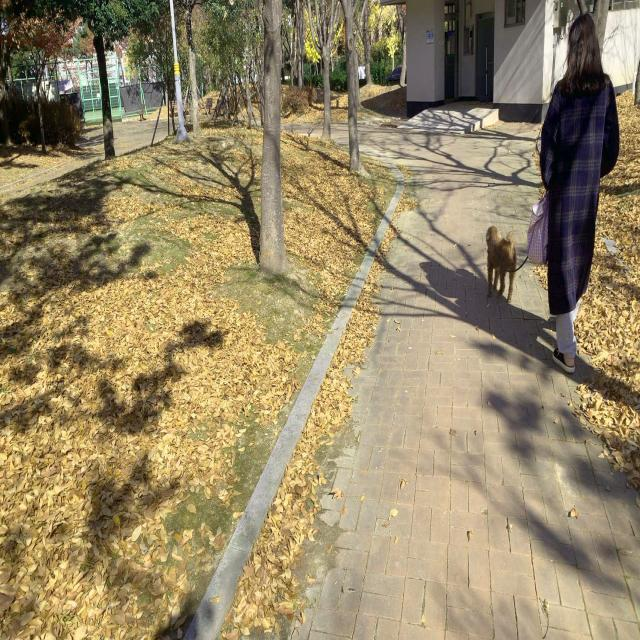Leashed_Dog: (485, 151, 575, 303)
